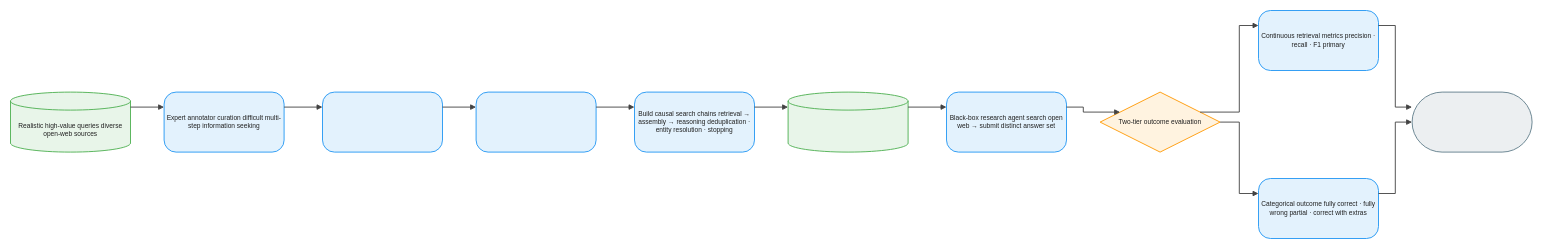
The diagram is 1543 pixels wide and 250 high, and some of its shapes have lost their labels. Here are the shapes that lost their labels. From the top down, the centre of each, then its label:
At point (382, 121): "Objective and definitive? single entity or exhaustive answer set".
At point (535, 121): "Stabilize ground truth time-anchor prompts or cite static datasets".
At point (847, 121): "DeepSearchQA 900 prompts · 17 fields · answer sets".
At point (1471, 121): "Comprehensiveness report retrieval/hedging/stopping failure modes".
